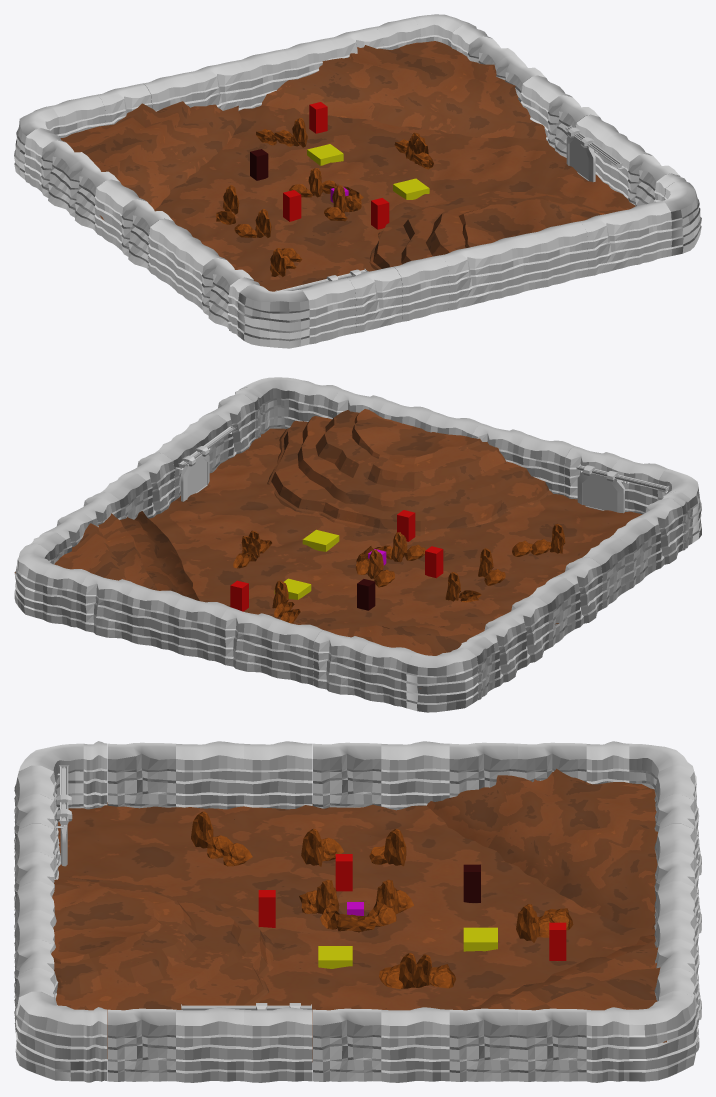
The model's file is Level1_B2V3.5_F25_Collapsed.fbx.
3 views of the same model, one above another, from view 1: azimuth 30°, elevation 25°; view 2: azimuth 150°, elevation 25°; view 3: azimuth 270°, elevation 25° (orthographic). The views are drawn at different scales.
Parts seen in each view (by area): view 1: level1_wall22, Floor, mountainEdge3, mountainhalf, Rock1, Rock2, level1_door_Enter, Trap1, Trap, Stormtrooper, Blurrg1, Stormtrooper4 (+1 smaller); view 2: level1_wall22, Floor, mountainhalf, mountainEdge3, Rock1, Rock2, level1_door_Exit, level1_door_Enter, Trap, Blurrg1, Stormtrooper4, Stormtrooper; view 3: level1_wall22, Floor, mountainEdge3, mountainhalf, Rock1, Rock2, Trap1, Trap, Stormtrooper, Blurrg1, Stormtrooper4, Stormtrooper2 (+1 smaller).
Part boxes in pixels (x1,y1,x2,y2): level1_wall22: (14, 14, 701, 348); Floor: (154, 105, 635, 291); mountainEdge3: (60, 41, 546, 219); mountainhalf: (369, 192, 607, 270); Rock1: (223, 118, 428, 276); Rock2: (216, 129, 433, 268); level1_door_Enter: (566, 127, 595, 182); Trap1: (307, 144, 343, 165); Trap: (393, 178, 429, 199); Stormtrooper: (309, 102, 327, 133); Blurrg1: (250, 149, 268, 180); Stormtrooper4: (283, 190, 301, 221); level1_wall22: (14, 377, 701, 712); Floor: (149, 428, 642, 630); mountainhalf: (267, 409, 552, 535); mountainEdge3: (14, 511, 558, 688); Rock1: (241, 524, 565, 608); Rock2: (233, 539, 551, 623); level1_door_Exit: (577, 465, 624, 513); level1_door_Enter: (181, 446, 209, 501); Trap: (302, 529, 339, 551); Blurrg1: (357, 579, 375, 610); Stormtrooper4: (425, 546, 443, 578); Stormtrooper: (230, 580, 248, 611); level1_wall22: (14, 741, 701, 1082); Floor: (58, 802, 654, 1061); mountainEdge3: (427, 768, 666, 1042); mountainhalf: (51, 875, 273, 1042); Rock1: (191, 811, 539, 988); Rock2: (204, 835, 573, 988); Trap1: (463, 927, 497, 951); Trap: (318, 946, 352, 968); Stormtrooper: (549, 922, 566, 960); Blurrg1: (463, 864, 480, 902); Stormtrooper4: (335, 854, 352, 891); Stormtrooper2: (258, 890, 275, 927).
Bounding box in the file's own units: 1559 × 197 × 1584.
